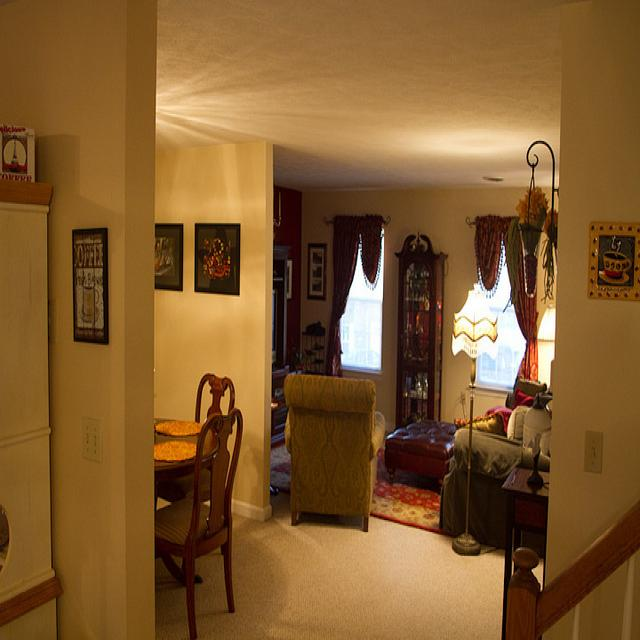chair: (154, 409, 243, 630), (284, 374, 387, 532), (194, 370, 235, 424)
dining table: (153, 416, 217, 473)
